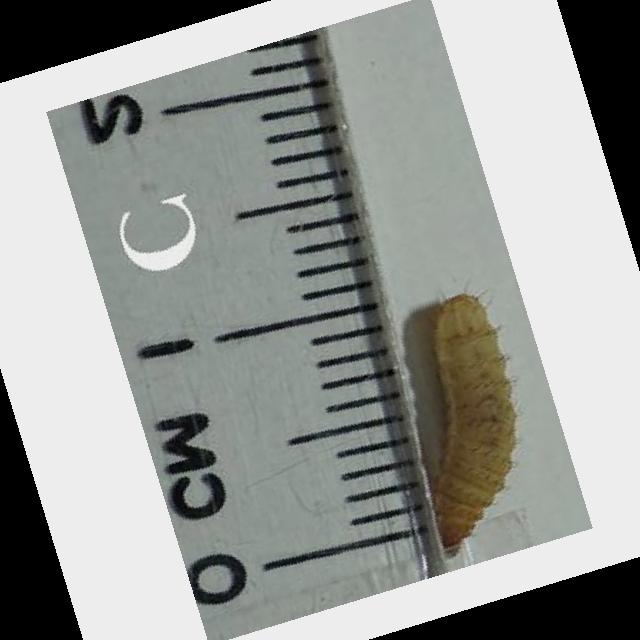Maggot: (414, 292, 521, 557)
